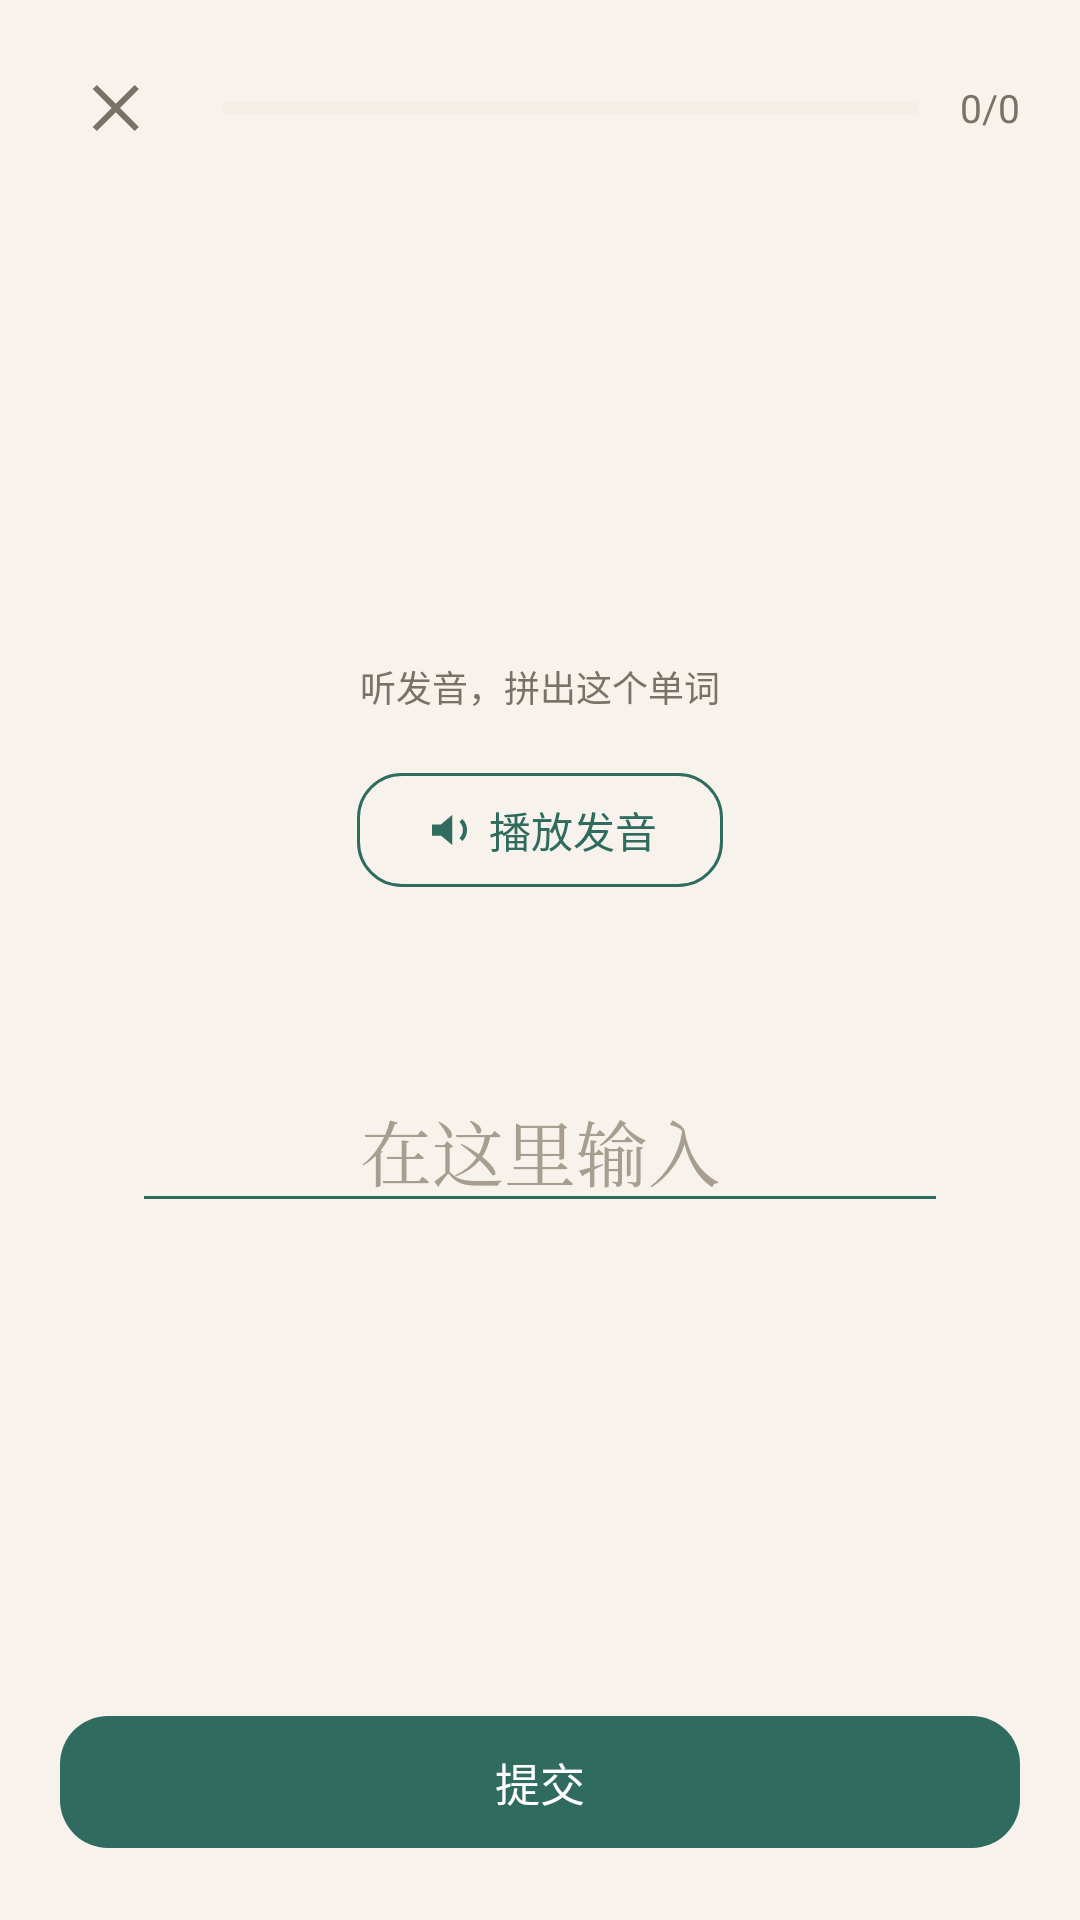

Icon click points for this 1080w x 1920h phone screenshot, format point (x, y):
关闭: point (116, 108)
